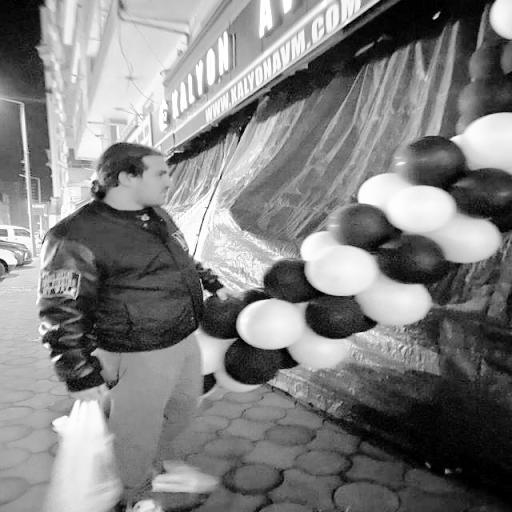balloon: (469, 107, 512, 172), (455, 168, 512, 212), (288, 334, 354, 372), (244, 307, 304, 347), (315, 250, 371, 292), (393, 138, 462, 172), (387, 238, 444, 279), (311, 297, 368, 336), (232, 340, 289, 379), (376, 284, 430, 322), (393, 194, 453, 228), (444, 222, 500, 258), (266, 256, 310, 299), (202, 296, 242, 340), (354, 172, 400, 204), (334, 213, 386, 241), (473, 42, 504, 88), (299, 227, 330, 254)
